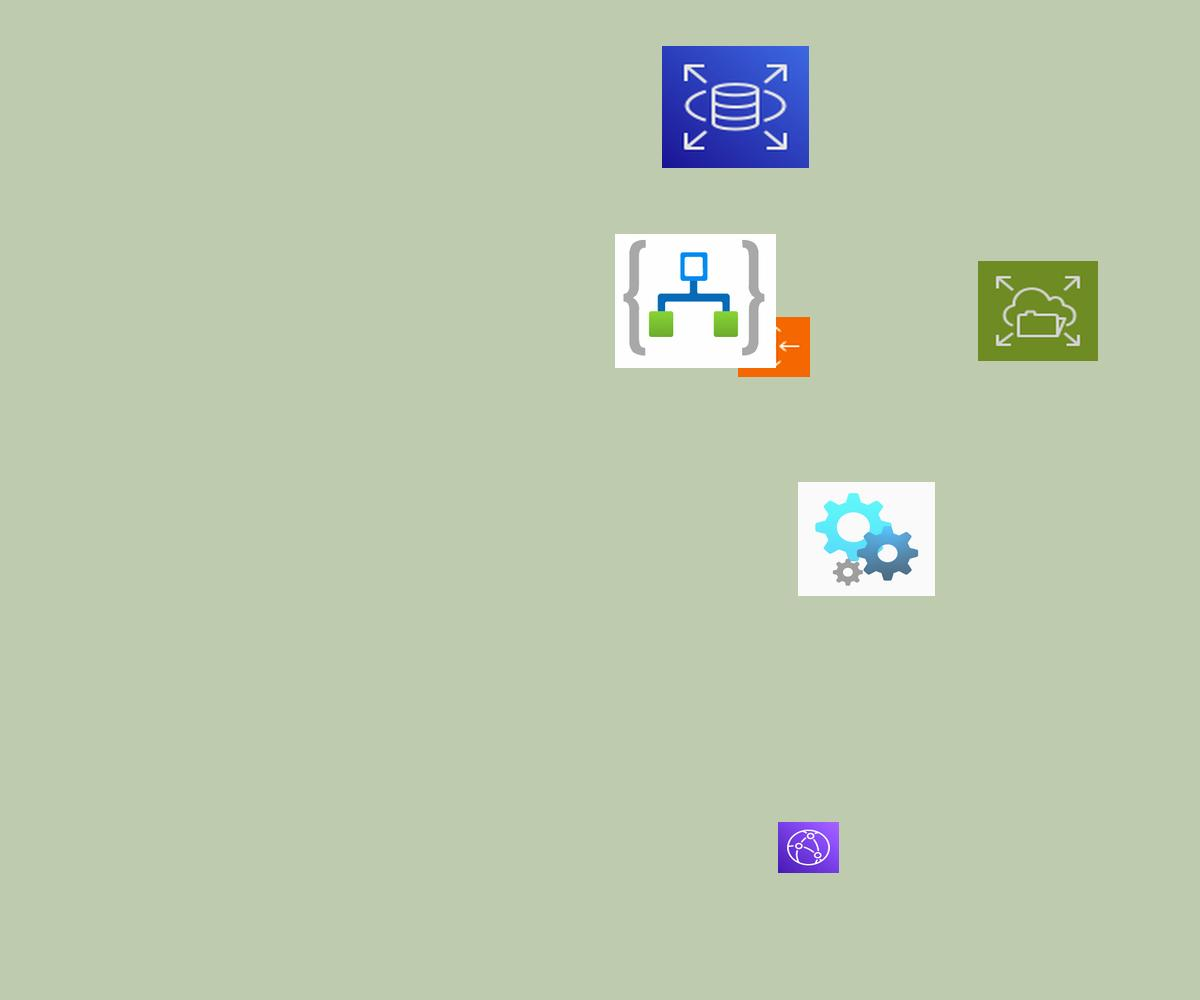AWS-CloudFront: (778, 822, 839, 873)
AWS-EFS: (978, 261, 1098, 361)
AWS-RDS: (662, 46, 809, 168)
AWS-Scaling-group: (738, 317, 810, 377)
Azure_api: (798, 482, 935, 596)
Azure_integration-204-Logic-Apps: (615, 234, 776, 368)
